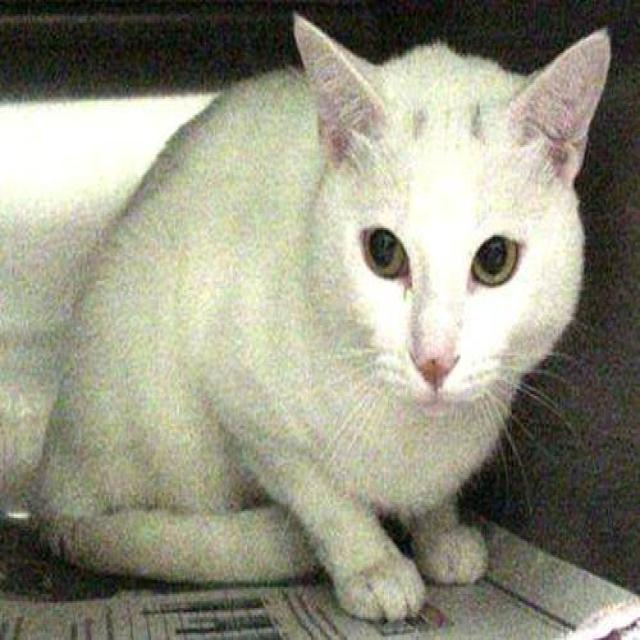cat: (16, 11, 612, 624)
